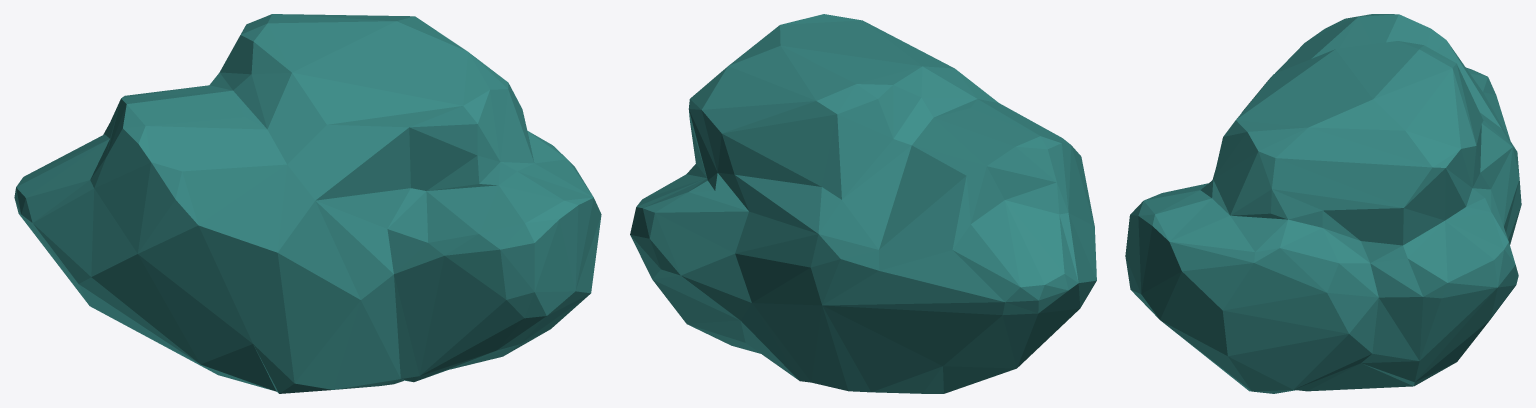
The model's file is SM_Rock_Sea_Medium_Bumpy_A.fbx.
3 views of the same model, side by side, from view 1: azimuth 30°, elevation 25°; view 2: azimuth 150°, elevation 25°; view 3: azimuth 270°, elevation 25° (orthographic). The views are drawn at different scales.
Parts seen in each view (by area): view 1: rock-sea-medium-bumpy-a; view 2: rock-sea-medium-bumpy-a; view 3: rock-sea-medium-bumpy-a.
Boxes of the visible parts, left/top/right/bottom form: rock-sea-medium-bumpy-a: left=14, top=14, right=601, bottom=393; rock-sea-medium-bumpy-a: left=630, top=14, right=1096, bottom=393; rock-sea-medium-bumpy-a: left=1125, top=14, right=1521, bottom=393.
Size of the model in its own units: 4.1 by 2.5 by 3.43.
